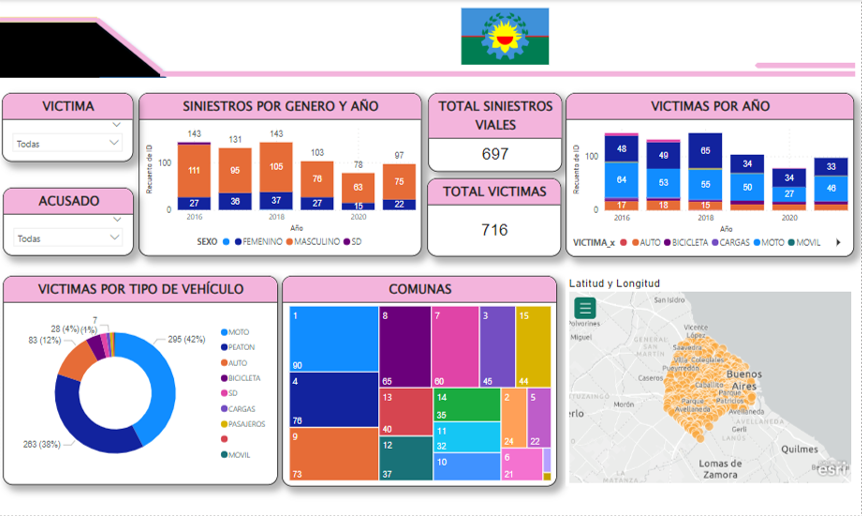

What the dashboard file says about the page in this screenshot:
{"tool":"powerbi","page":{"name":"Generalidades","canvas":[1280,764],"ordinal":1},"visuals":[{"type":"donutChart","title":"VICTIMAS POR TIPO DE VEHÍCULO","fields":{"Y":["CountNonNull(hechos_victimas_depurados.ID)"],"Category":["hechos_victimas_depurados.VICTIMA_x"]},"box":[5.7,409,407.6,310.3],"z":0},{"type":"image","box":[681.3,0,140.4,107.4],"z":1000},{"type":"shape","box":[146.3,32.8,103,82.1],"z":2000},{"type":"shape","box":[0,32.8,149.3,82.1],"z":3000},{"type":"shape","box":[0,25.6,148.9,7.8],"z":4000},{"type":"shape","box":[123.6,16.7,138.9,102.8],"z":5000},{"type":"shape","box":[238.8,65.8,1031.2,88.7],"z":6000},{"type":"shape","box":[1120.6,93.7,149.2,7.9],"z":7000},{"type":"columnChart","title":"SINIESTROS POR GENERO Y AÑO","fields":{"Y":["CountNonNull(hechos_victimas_depurados.ID)"],"Series":["hechos_victimas_depurados.SEXO"],"Category":["Calendario.Año"]},"box":[206.4,137.1,419.9,242.4],"z":8000},{"type":"card","title":"TOTAL SINIESTROS VIALES","fields":{"Values":["Count(hechos_victimas_depurados.ID)"]},"box":[635.7,137.1,198.8,117.3],"z":9000},{"type":"card","title":"TOTAL VICTIMAS","fields":{"Values":["Sum(hechos_victimas_depurados.N_VICTIMAS)"]},"box":[634.3,264.4,198.8,115.8],"z":10000},{"type":"columnChart","title":"VICTIMAS POR AÑO","fields":{"Y":["CountNonNull(hechos_victimas_depurados.ID)"],"Series":["hechos_victimas_depurados.VICTIMA_x"],"Category":["Calendario.Año"]},"box":[840.9,137.3,427.6,243.1],"z":11000},{"type":"treemap","title":"COMUNAS","fields":{"Values":["CountNonNull(hechos_victimas_depurados.ID)"],"Group":["hechos_victimas_depurados.COMUNA"]},"box":[419.9,408.3,408.4,311.7],"z":12000},{"type":"slicer","title":"VICTIMA","fields":{"Values":["hechos_victimas_depurados.VICTIMA_x"]},"box":[4.3,137.1,194.8,102.5],"z":13000},{"type":"slicer","title":"ACUSADO","fields":{"Values":["hechos_victimas_depurados.ACUSADO"]},"box":[5.6,277.8,194.5,101.4],"z":14000},{"type":"esriVisual","fields":{"Latitude":["hechos_victimas_depurados.Latitud"],"Longitude":["hechos_victimas_depurados.Longitud"]},"box":[841,408,428,312],"z":15000},{"type":"actionButton","box":[1195.1,7.2,79.7,76.6],"z":15001}]}

Visuals, with their boxes in screenshot pixels (x1, y1, x2, y2), scaled from the page's 1280x764 canvas onto the 862x516 screenshot:
"VICTIMAS POR TIPO DE VEHÍCULO" donutChart: x1=4, y1=276, x2=278, y2=486
image: x1=459, y1=0, x2=553, y2=73
shape: x1=99, y1=22, x2=168, y2=78
shape: x1=0, y1=22, x2=101, y2=78
shape: x1=0, y1=17, x2=100, y2=23
shape: x1=83, y1=11, x2=177, y2=81
shape: x1=161, y1=44, x2=855, y2=104
shape: x1=755, y1=63, x2=855, y2=69
"SINIESTROS POR GENERO Y AÑO" columnChart: x1=139, y1=93, x2=422, y2=256
"TOTAL SINIESTROS VIALES" card: x1=428, y1=93, x2=562, y2=172
"TOTAL VICTIMAS" card: x1=427, y1=179, x2=561, y2=257
"VICTIMAS POR AÑO" columnChart: x1=566, y1=93, x2=854, y2=257
"COMUNAS" treemap: x1=283, y1=276, x2=558, y2=486
"VICTIMA" slicer: x1=3, y1=93, x2=134, y2=162
"ACUSADO" slicer: x1=4, y1=188, x2=135, y2=256
esriVisual - hechos_victimas_depurados.Latitud x hechos_victimas_depurados.Longitud: x1=566, y1=276, x2=855, y2=486
actionButton: x1=805, y1=5, x2=858, y2=57
